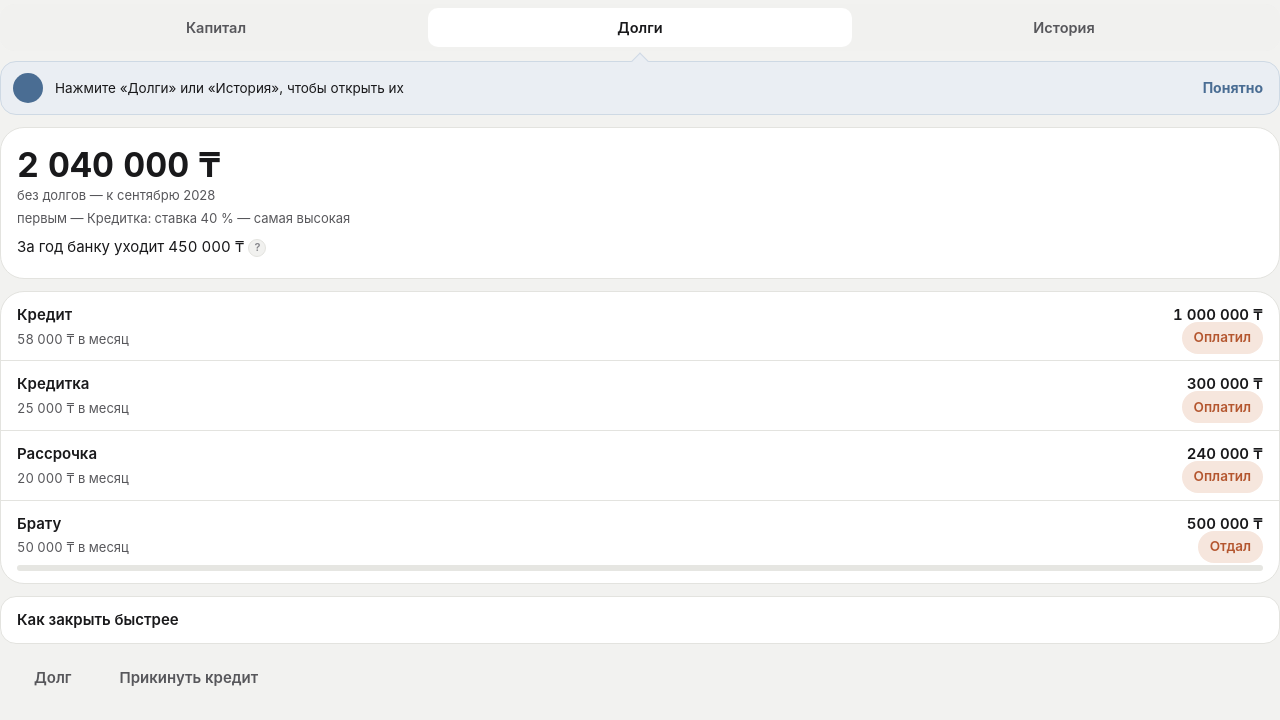
Scenario: F2-03: «Оплатил» у строки кредита на «Долгах» › прошлой оплаты нет — счёт спрашивает лист отметки, сразу ничего не пишет
Click the button "Оплатил" below "300 000 ₸" at coordinates (1222, 407), box [1182, 391, 1263, 423]
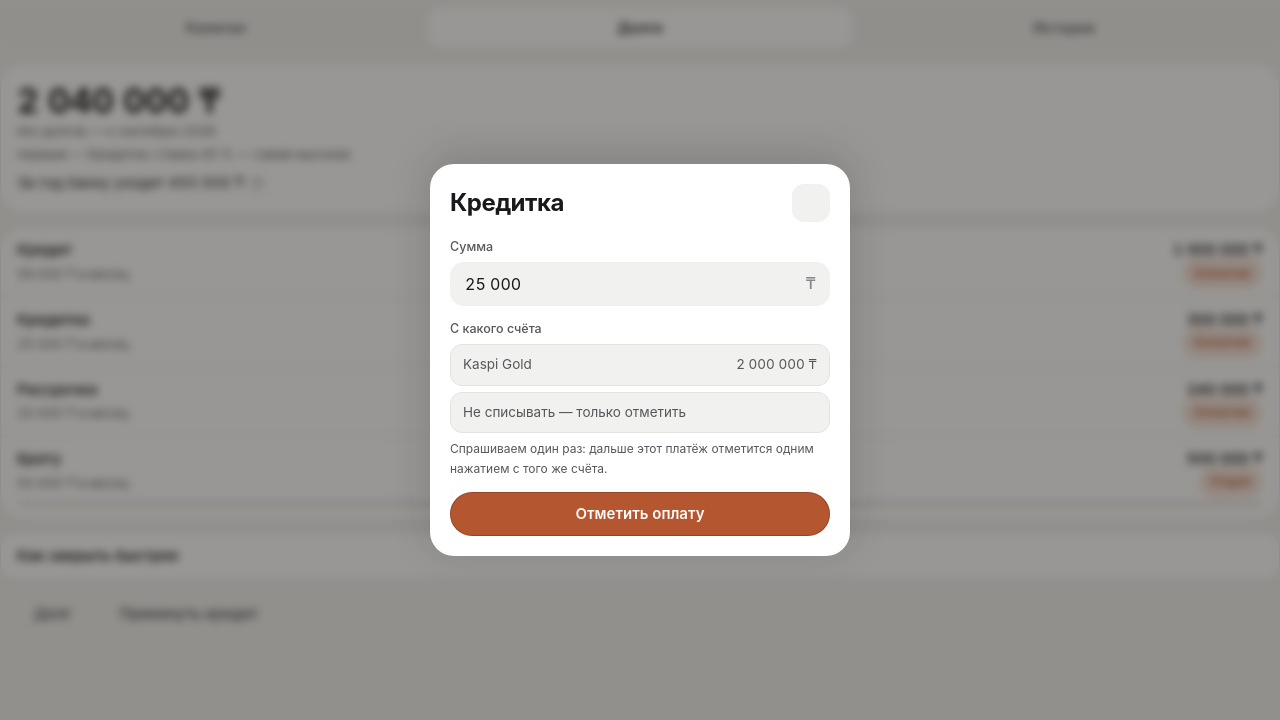
expect the dialog shows "Кредитка": met, box [450, 188, 564, 217]
